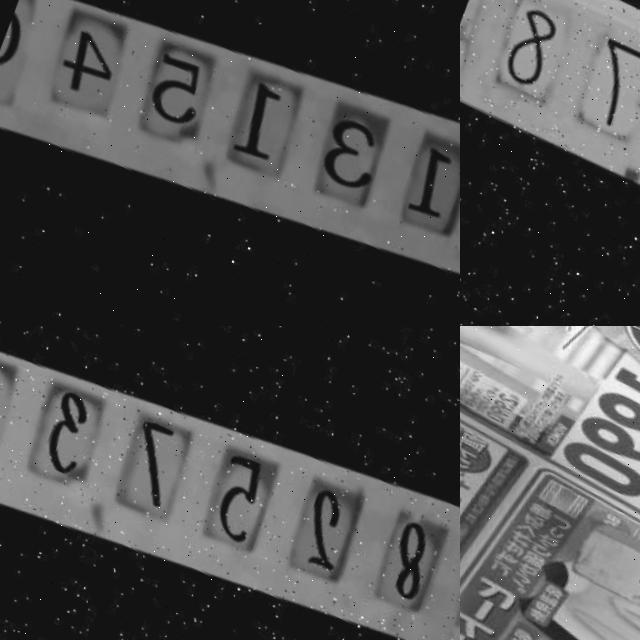0: (0, 0, 60, 103)
1: (205, 51, 322, 181), (381, 112, 460, 237)
2: (268, 458, 381, 585)
3: (289, 79, 410, 215), (7, 362, 127, 496)
4: (30, 0, 147, 126), (460, 0, 498, 63)
5: (176, 425, 300, 562), (120, 21, 237, 153)
6: (0, 333, 37, 467)
7: (92, 394, 211, 525), (565, 19, 640, 141)
8: (354, 488, 460, 613), (485, 0, 584, 104), (431, 514, 460, 639)
L: (552, 388, 640, 640)
